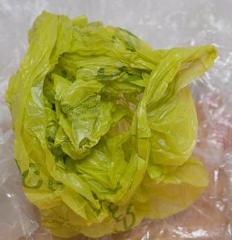plastic: (9, 11, 218, 234)
